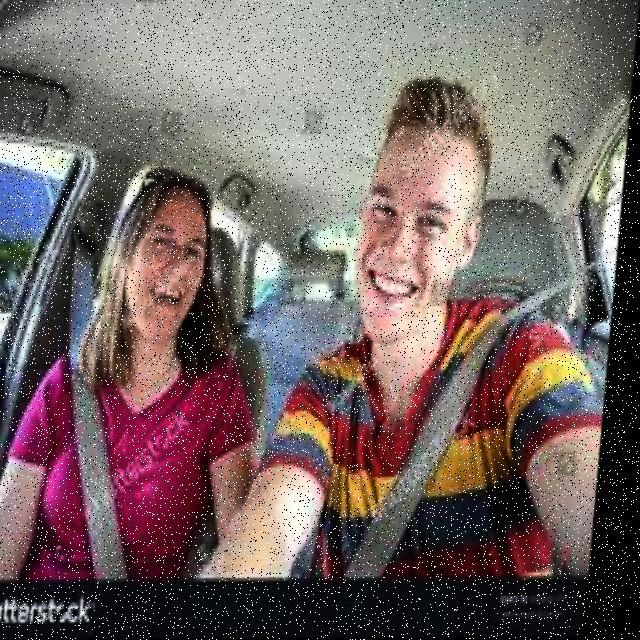seatbelt: (328, 288, 565, 578), (50, 340, 228, 582)
